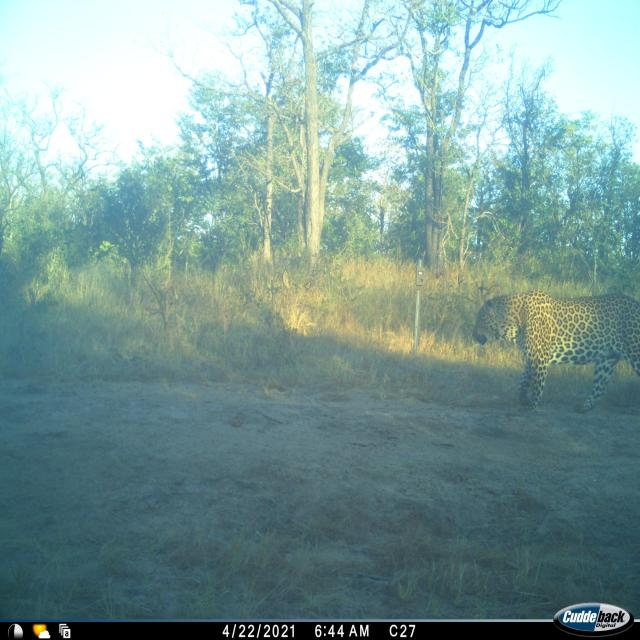Leopard: (489, 271, 640, 421)
